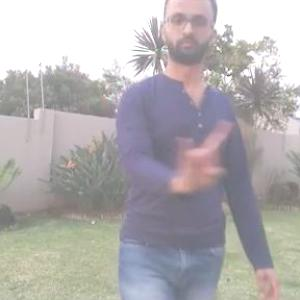takeoff-hand: (174, 116, 230, 192)
